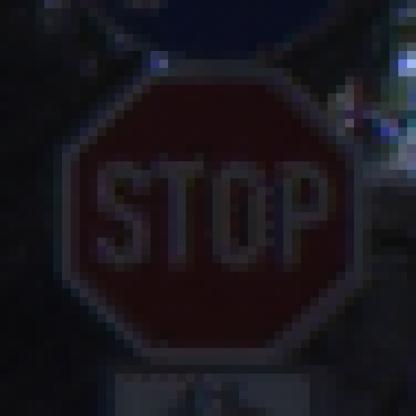Stop: (65, 73, 361, 365)
